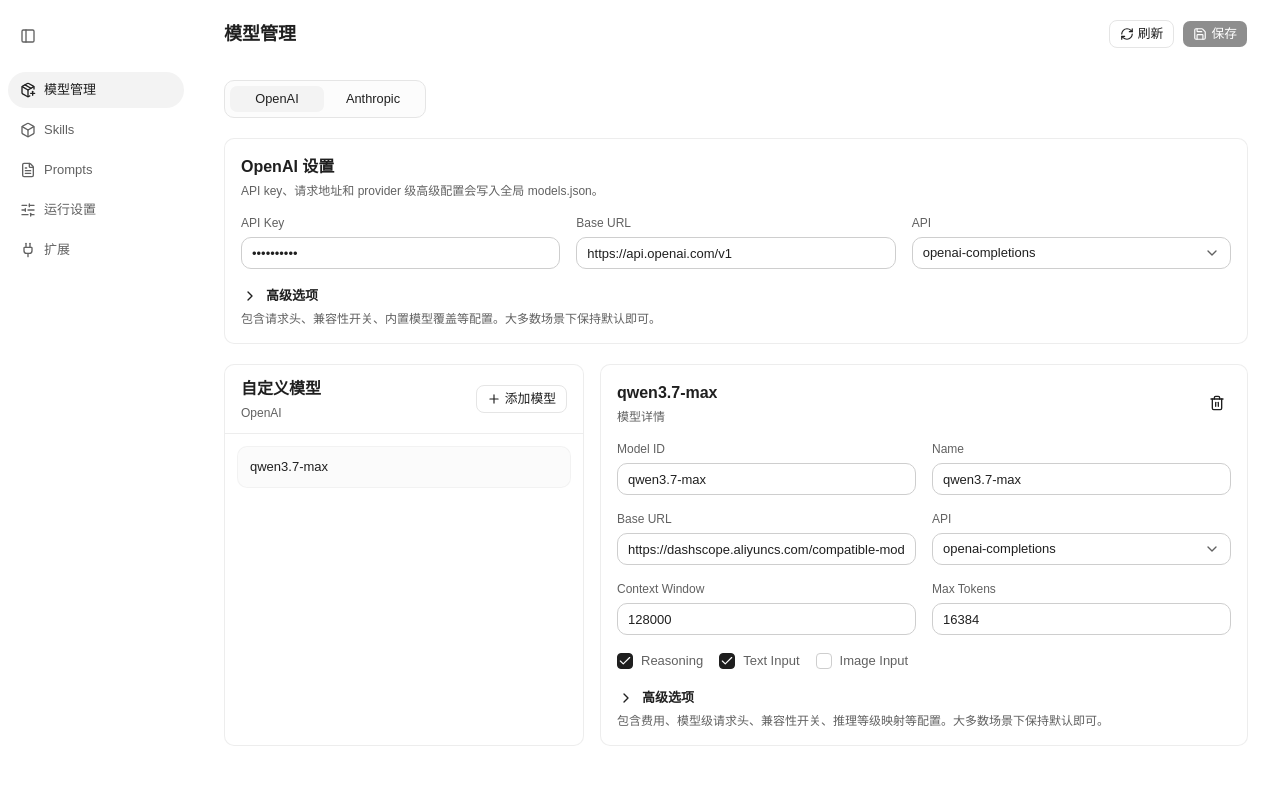
SettingsApp › shows inherited enabled defaults and rejects provider-scoped runtime default models before saving
Click the button "运行设置" at (96, 210), box top-left (8, 192), bottom-right (184, 228)
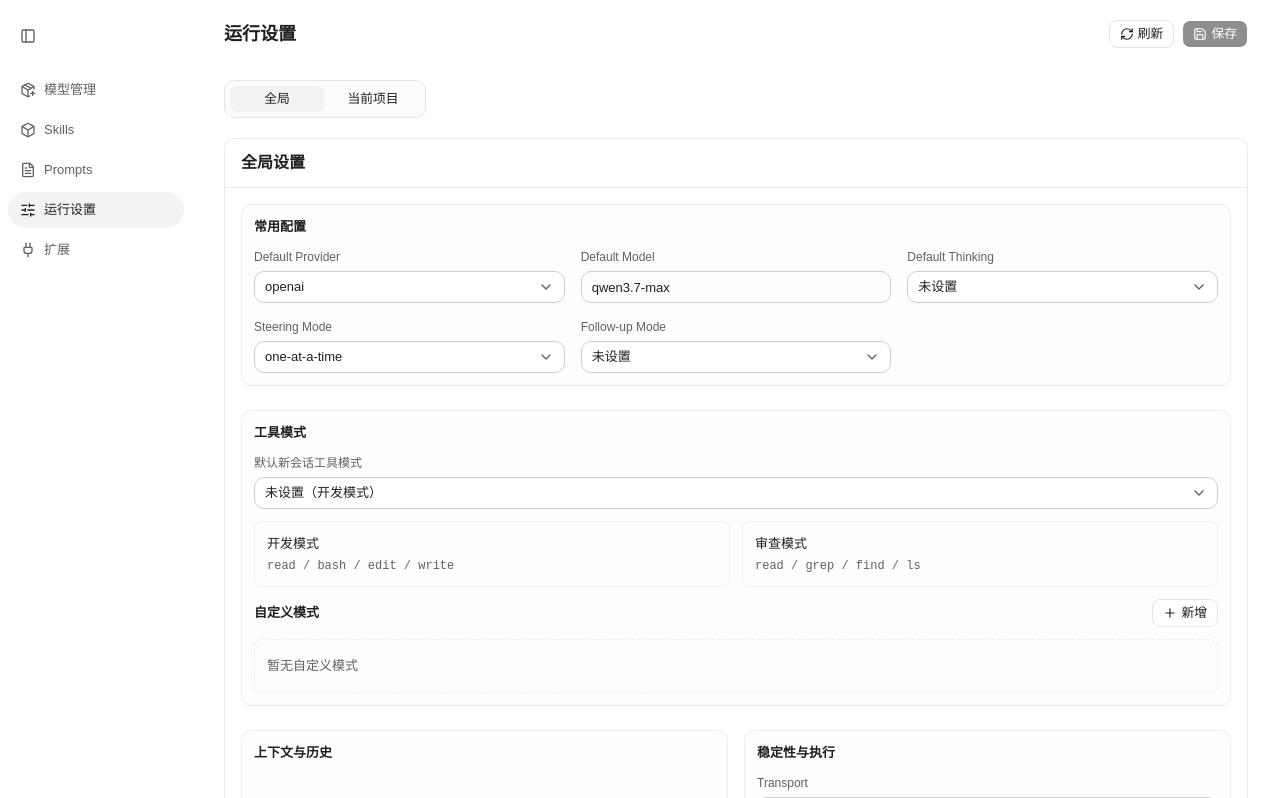
Replace the text in the field showing "qwen3.7-max" with "openai/qwen3.7-plus" at (736, 287), box top-left (581, 271), bottom-right (891, 303)
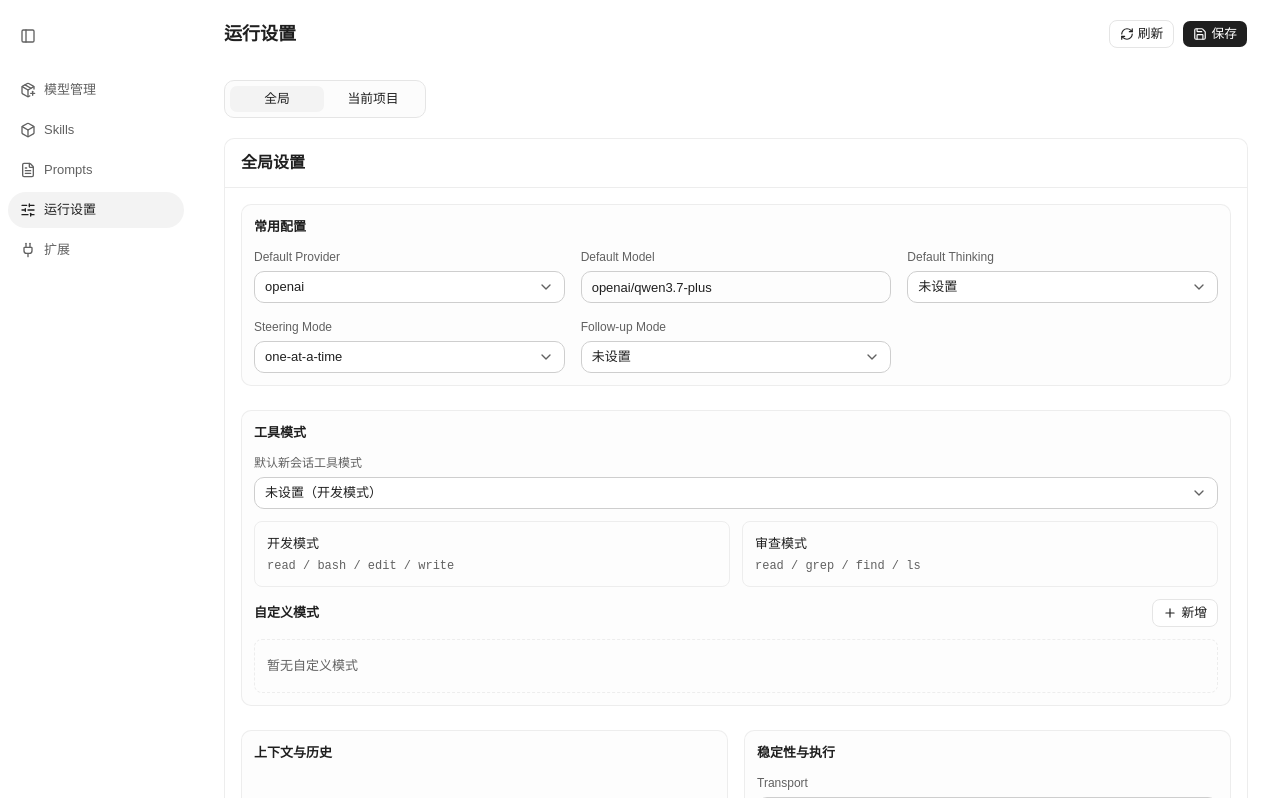
Click the button "保存" at (1215, 34), box top-left (1182, 20), bottom-right (1248, 48)
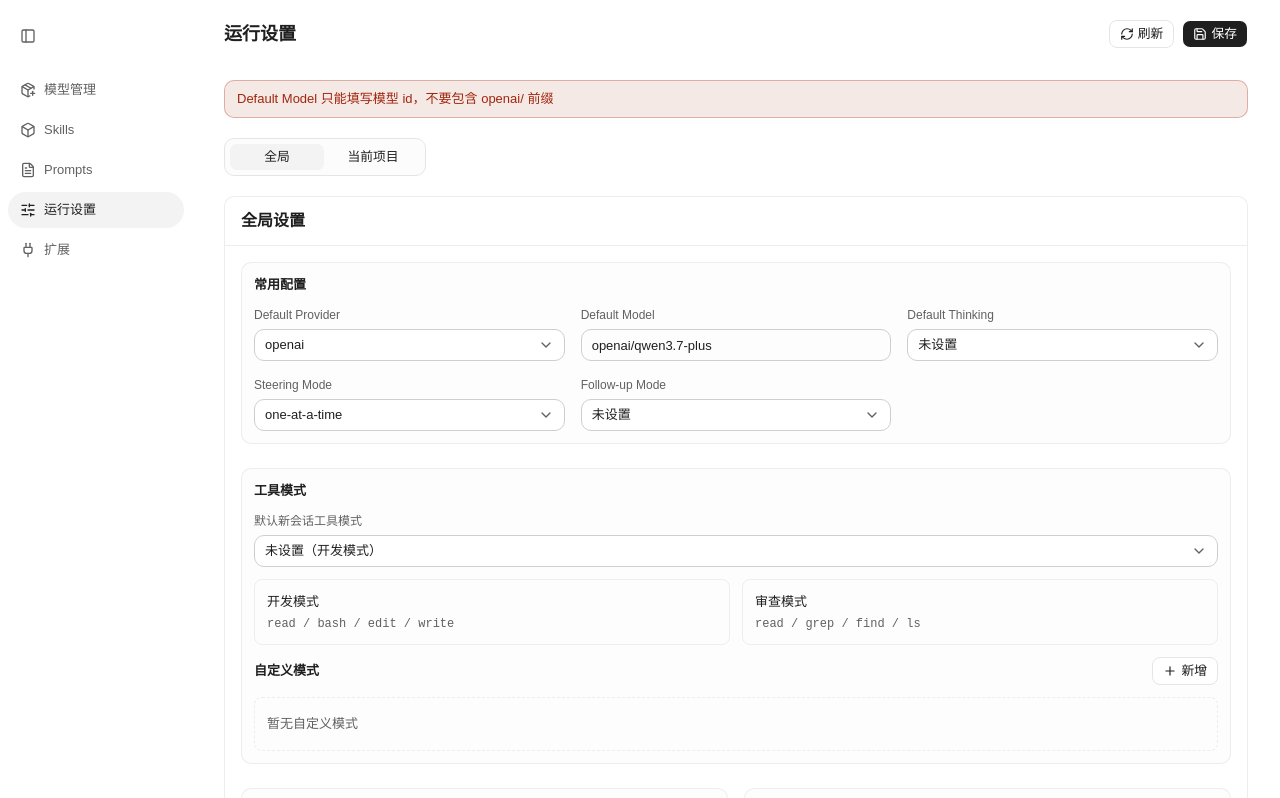
Result: the text "Default Model 只能填写模型 id，不要包含 openai/ 前缀" is shown at top-left (224, 80), bottom-right (1248, 118)
